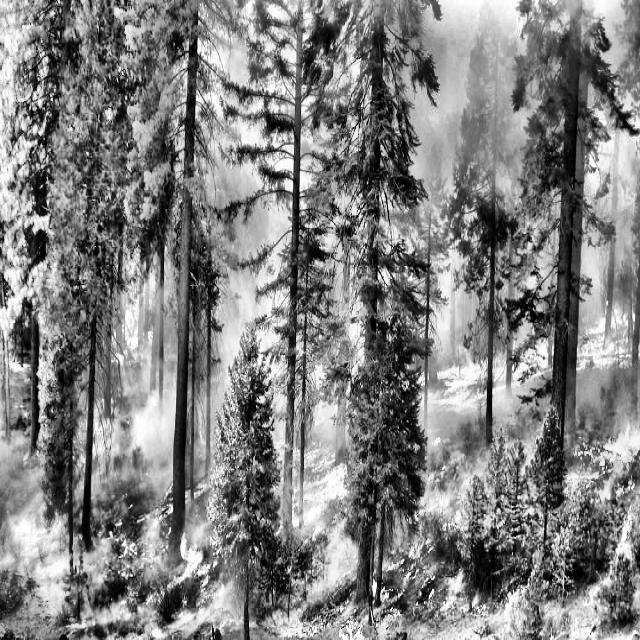fire: (5, 320, 640, 631)
